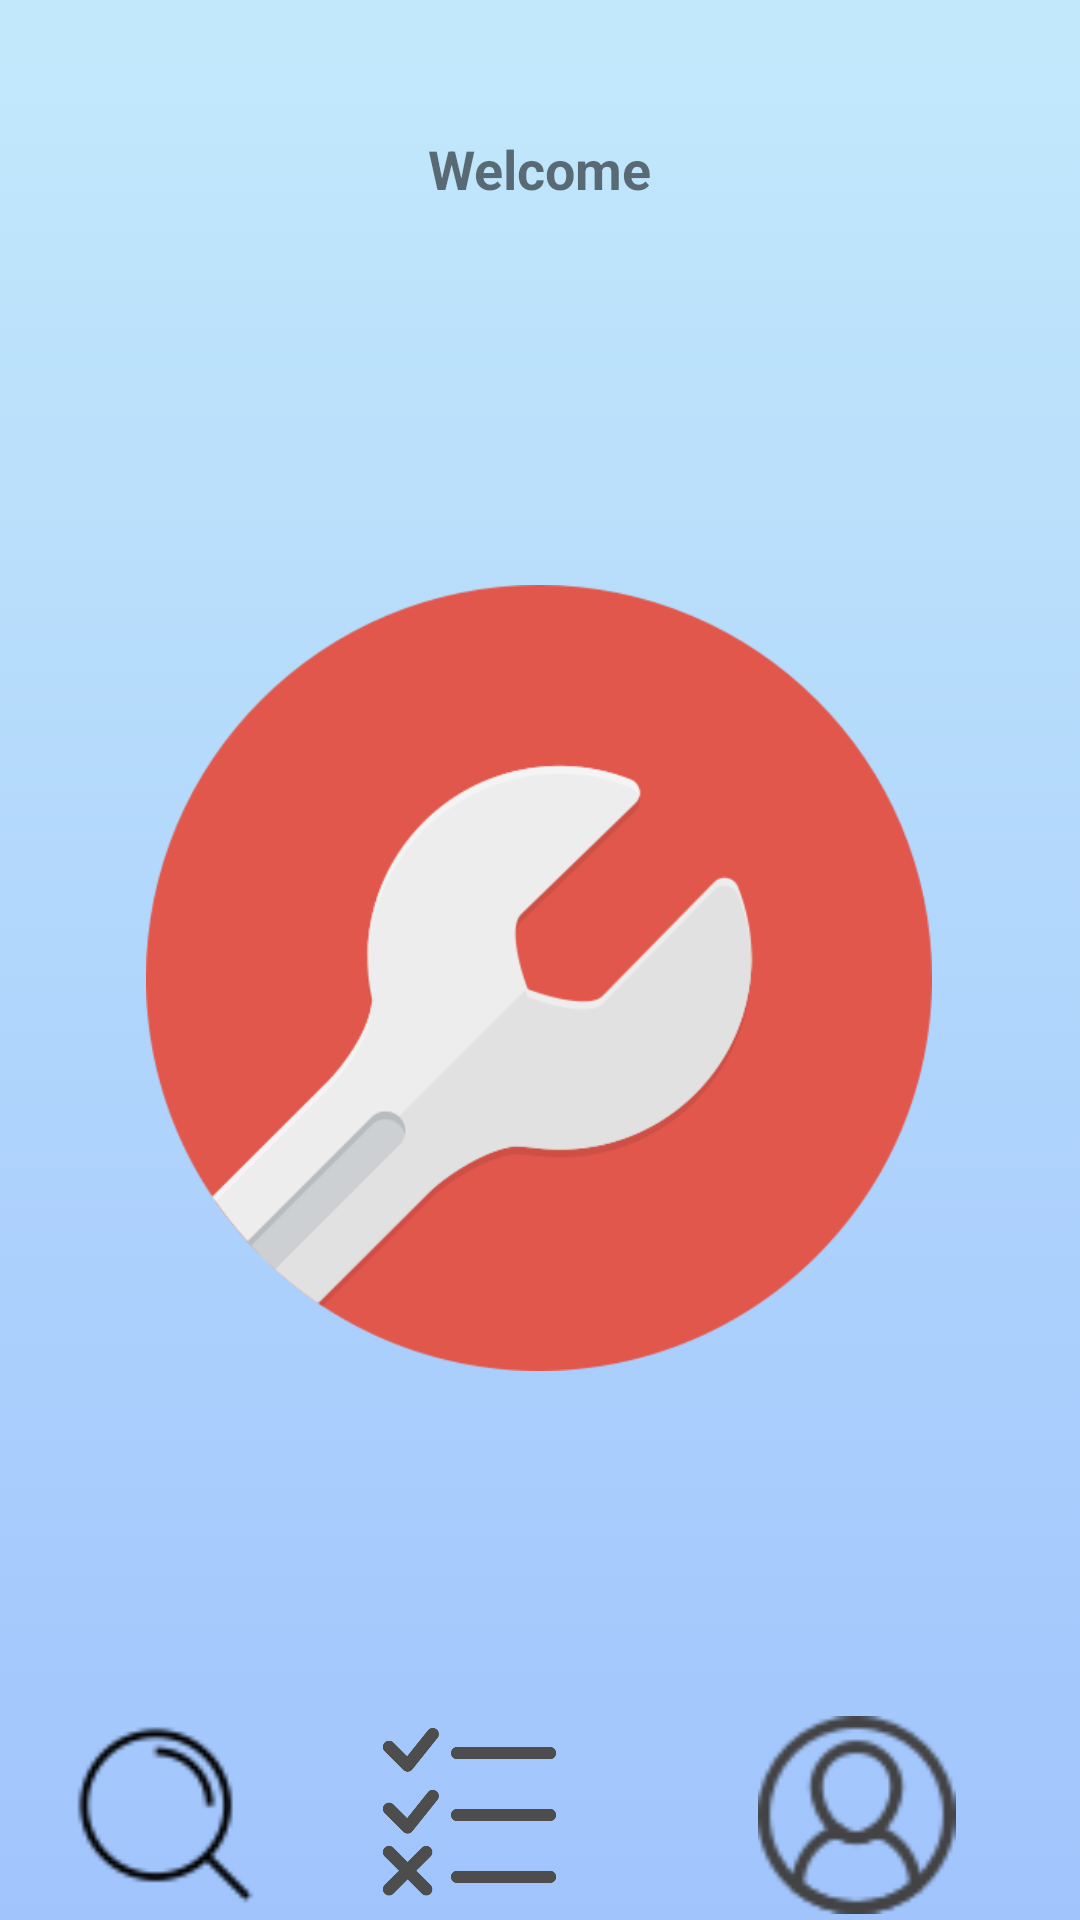

Icons on this 1080*1920 Android screen, each with the point to tap as point (x, y):
iconfinder list: point (469, 1812)
iconfinder search: point (165, 1814)
